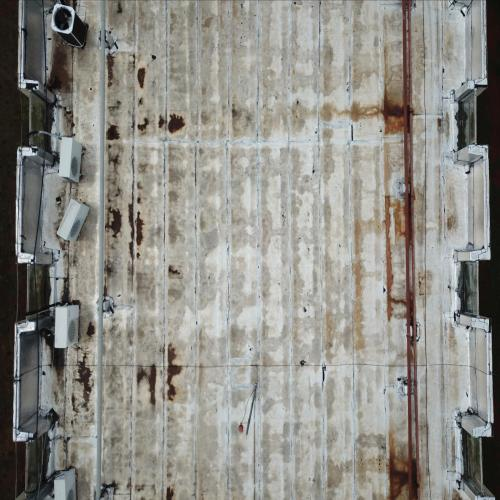conde: (49, 2, 90, 53), (56, 196, 93, 246), (53, 299, 84, 357), (58, 134, 85, 188), (52, 464, 80, 500)
